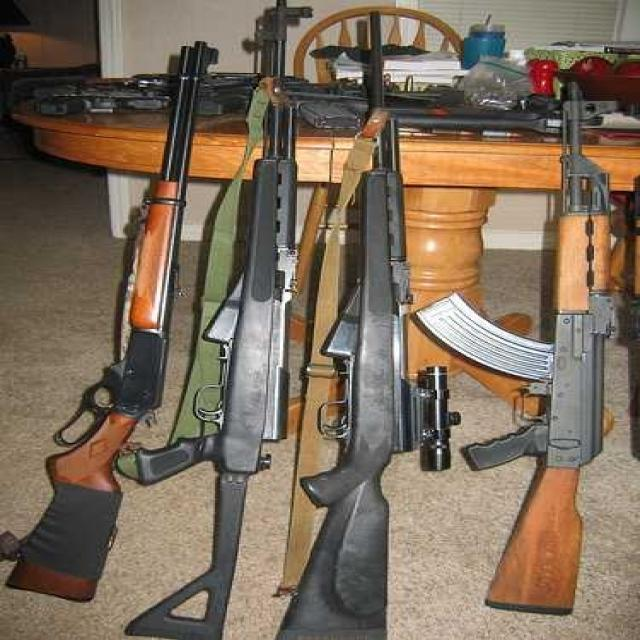Rifle: (50, 24, 215, 629), (488, 54, 623, 620)
RifleTel: (328, 83, 471, 640)
